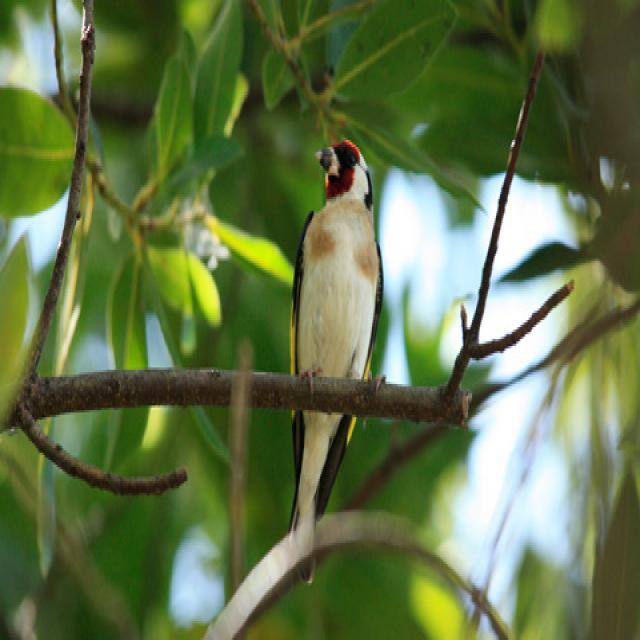bird: (263, 124, 401, 604)
